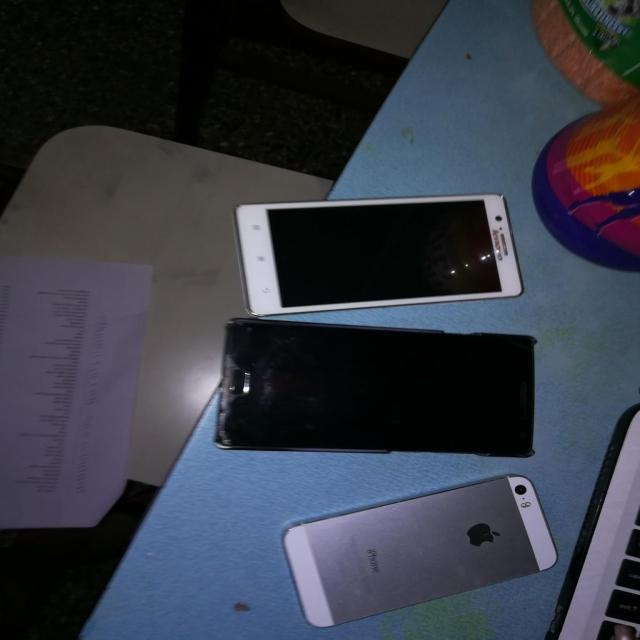Phone: (211, 317, 539, 457), (280, 473, 560, 631), (234, 192, 526, 316)
